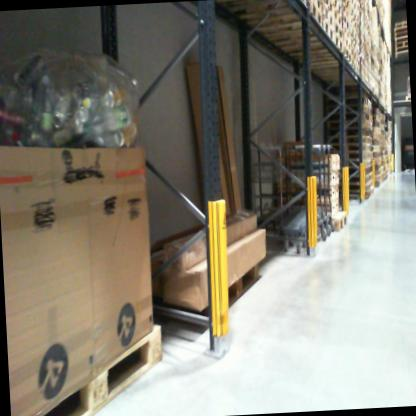pallet: (17, 322, 184, 416), (243, 0, 325, 50), (274, 24, 343, 61), (263, 17, 333, 52), (209, 0, 308, 22), (327, 135, 370, 150), (323, 210, 351, 233), (323, 102, 369, 115), (323, 126, 371, 138), (323, 120, 370, 132), (328, 141, 370, 154), (329, 151, 372, 163), (327, 111, 370, 122), (322, 95, 369, 104), (347, 180, 373, 193), (340, 158, 370, 169), (333, 15, 345, 41), (330, 6, 343, 29), (324, 2, 334, 30), (350, 189, 373, 198), (340, 168, 369, 175), (332, 0, 343, 17), (344, 175, 371, 181), (393, 48, 407, 57), (394, 30, 406, 40), (393, 21, 406, 30), (394, 36, 407, 44), (392, 27, 406, 33), (394, 42, 406, 48), (393, 46, 407, 51), (405, 96, 410, 101)
